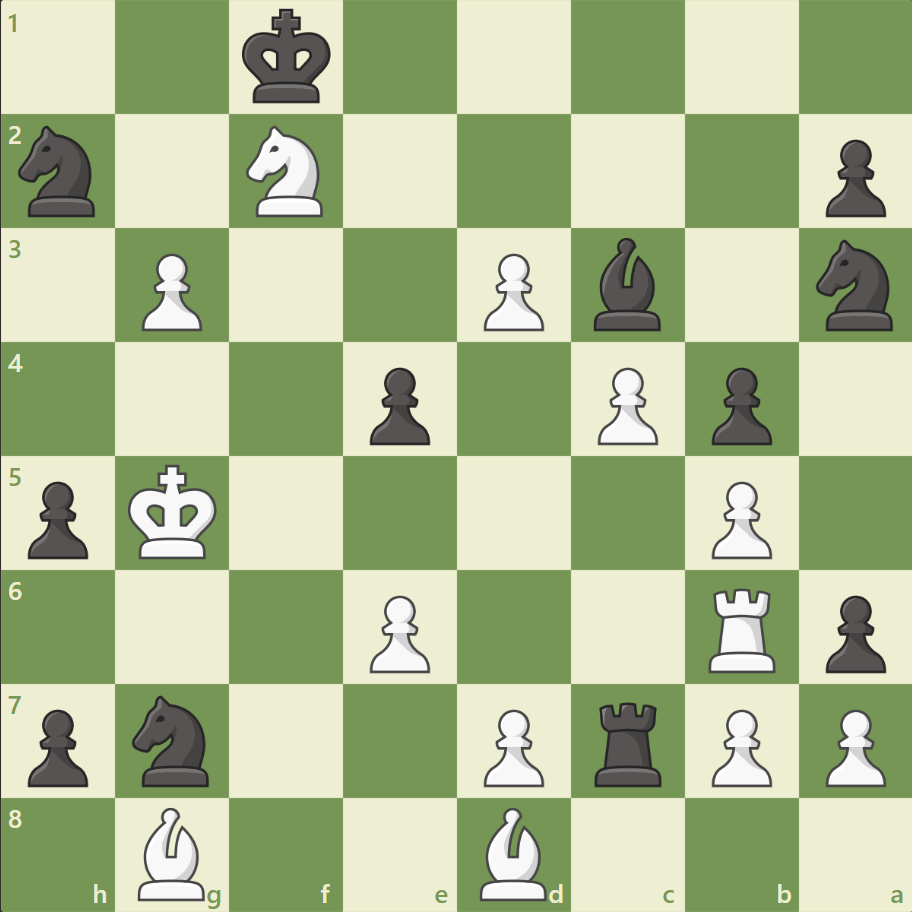B: (471, 801, 555, 904), (131, 801, 215, 904)
K: (124, 458, 224, 566)
N: (238, 121, 335, 223)
P: (701, 700, 776, 791), (474, 700, 549, 791), (701, 473, 776, 564), (474, 246, 549, 337), (133, 246, 208, 337), (815, 700, 889, 791), (361, 586, 435, 677), (588, 359, 662, 450)
R: (700, 579, 783, 676)
b: (585, 233, 669, 336)
k: (238, 4, 338, 112)
n: (124, 688, 222, 791), (806, 234, 903, 337), (11, 121, 108, 223)
p: (20, 700, 95, 791), (20, 473, 95, 564), (701, 359, 776, 450), (815, 586, 889, 677), (361, 359, 435, 450), (815, 132, 889, 223)
r: (587, 693, 670, 790)
